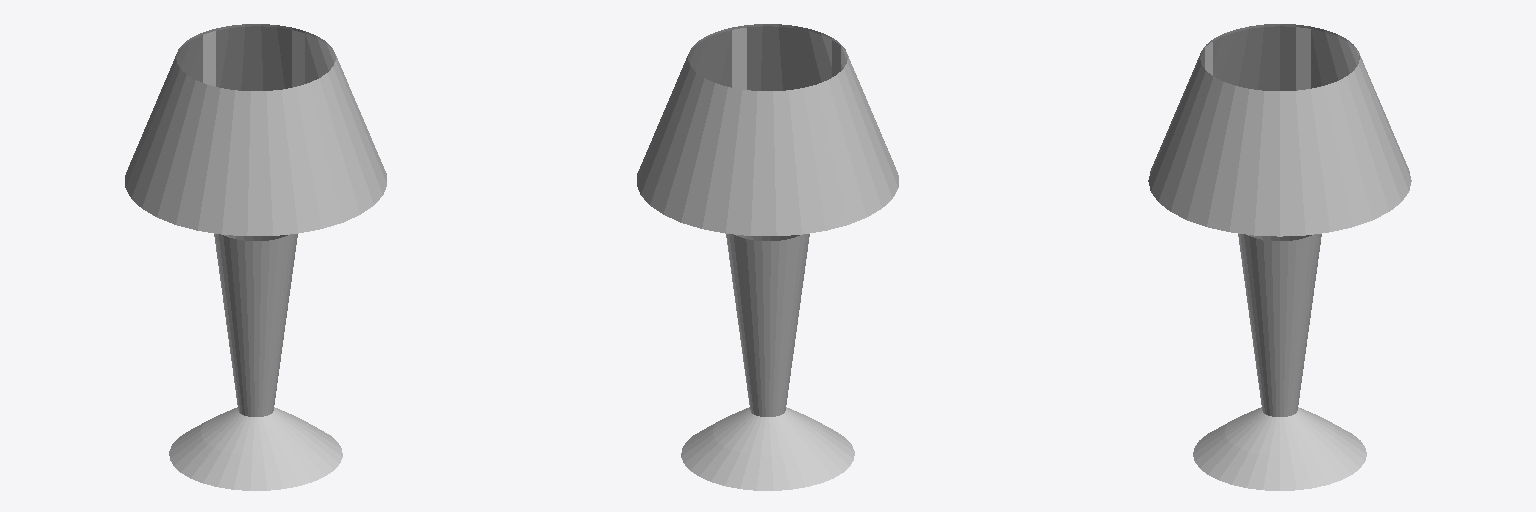
The model's file is lampe.obj.
The picture shows the model from 3 angles: view 1: azimuth 30°, elevation 25°; view 2: azimuth 150°, elevation 25°; view 3: azimuth 270°, elevation 25°; orthographic projection.
Visible parts, largest first — view 1: Cylinder; view 2: Cylinder; view 3: Cylinder.
Part boxes in pixels (bbox=[...]): Cylinder: bbox=[125, 24, 386, 490]; Cylinder: bbox=[637, 24, 898, 490]; Cylinder: bbox=[1148, 24, 1411, 490].
Size of the model in its own units: 3.26 by 5.41 by 3.26.